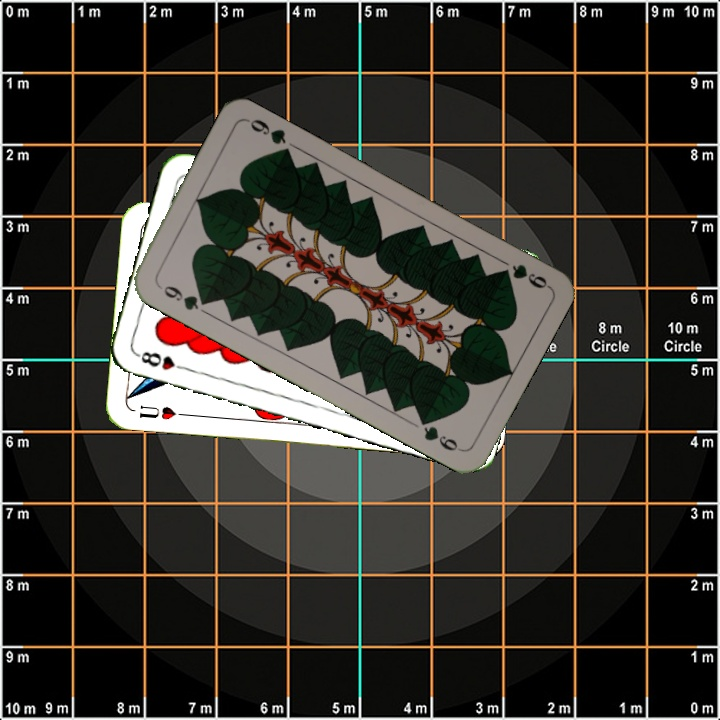G9: (496, 260, 552, 292), (159, 281, 212, 313)
H8: (132, 347, 191, 373)
HU: (135, 401, 189, 423)
